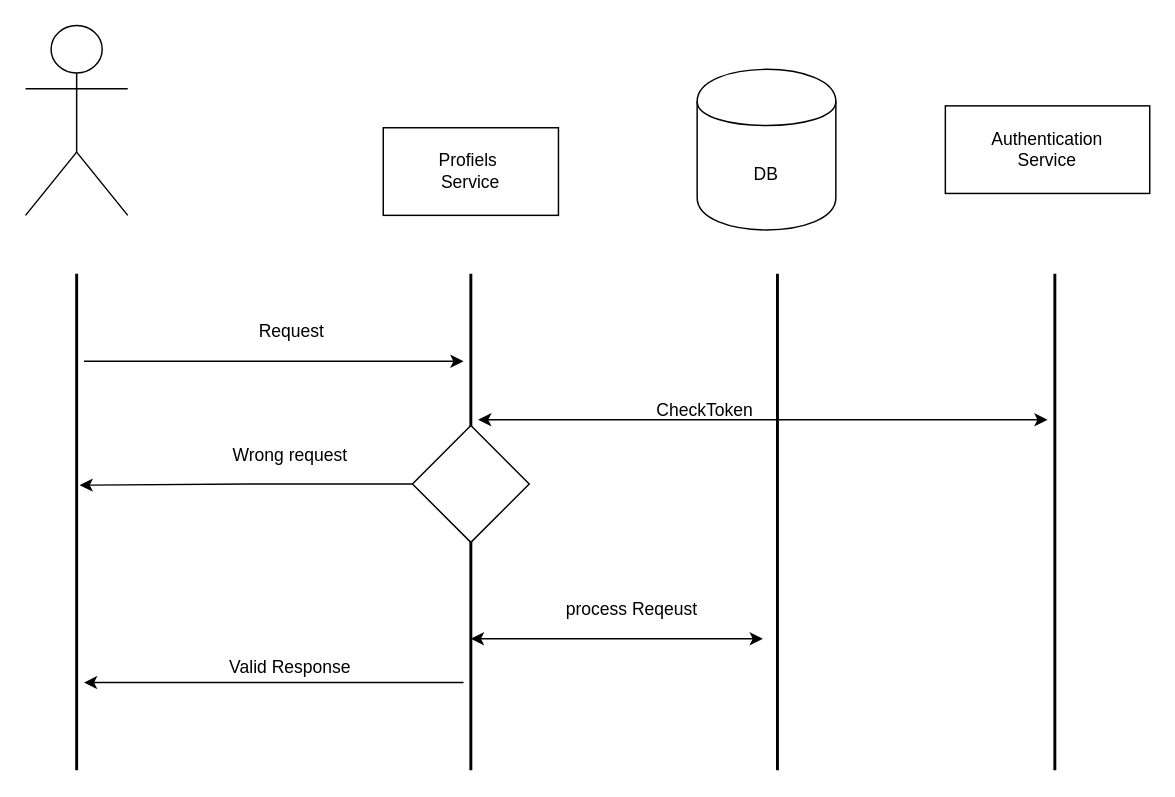
Image size: 1175x797. Some labels were removed from this diagram. Each missing label, with the box of its shape:
Token Valid: (411, 424, 529, 542)
User: (24, 24, 128, 215)
